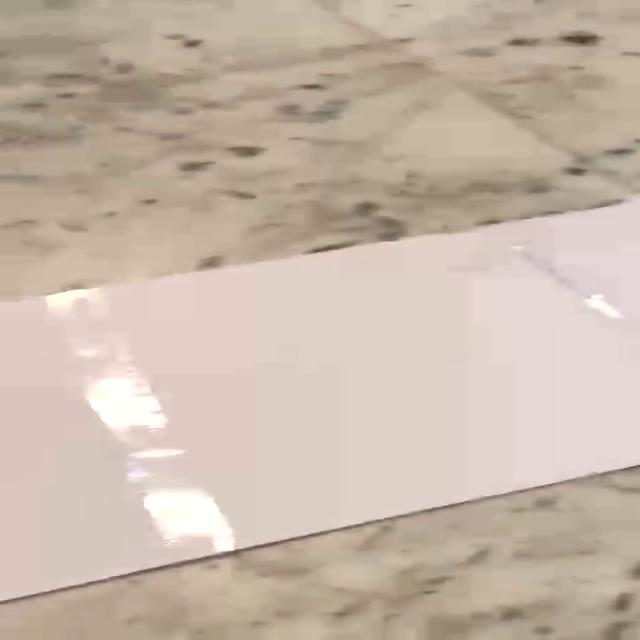road: (3, 202, 640, 600)
